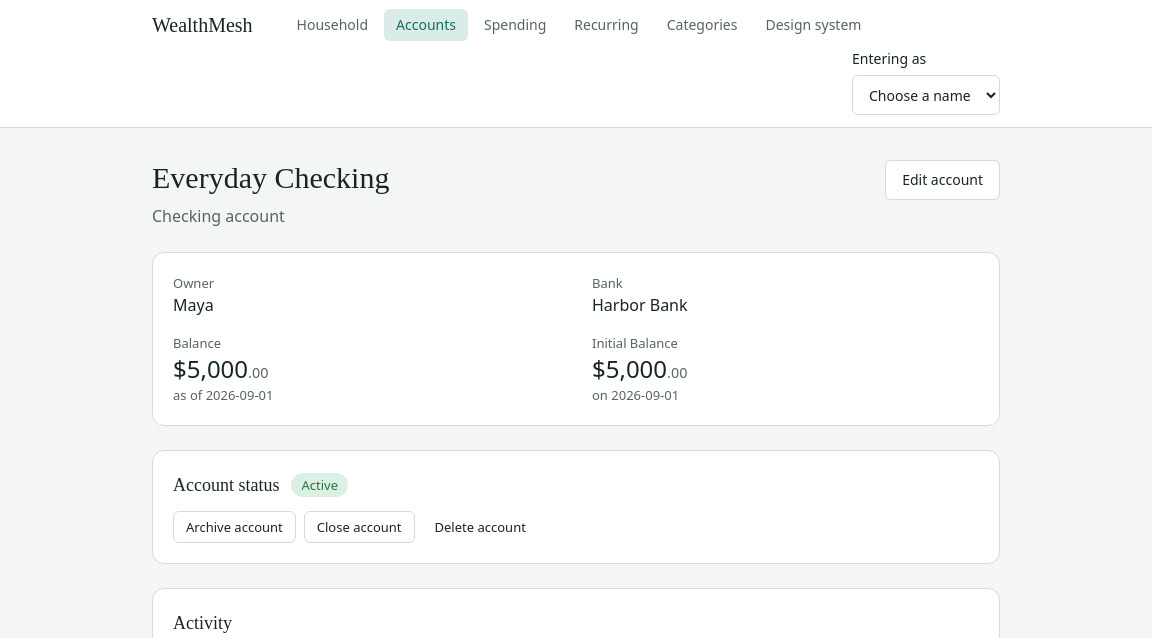
Test case: adding a transfer › V2_SAVINGS_002 confirming moves the money on both sides and adds no income or spending
The image size is (1152, 638).
Select "Maya" in the dropdown labelled "Entering as" at point(926, 95), box [852,75,1000,115]
(page scrolled)
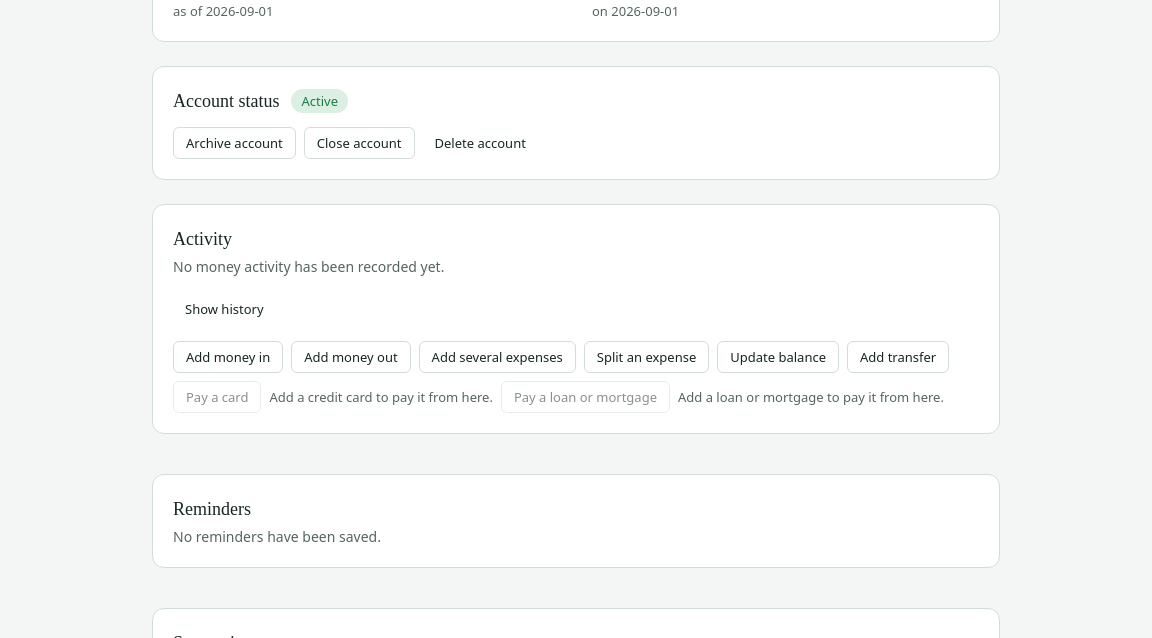
Click the button "Add transfer" at point(898, 357), box [847,341,949,373]
(page scrolled)
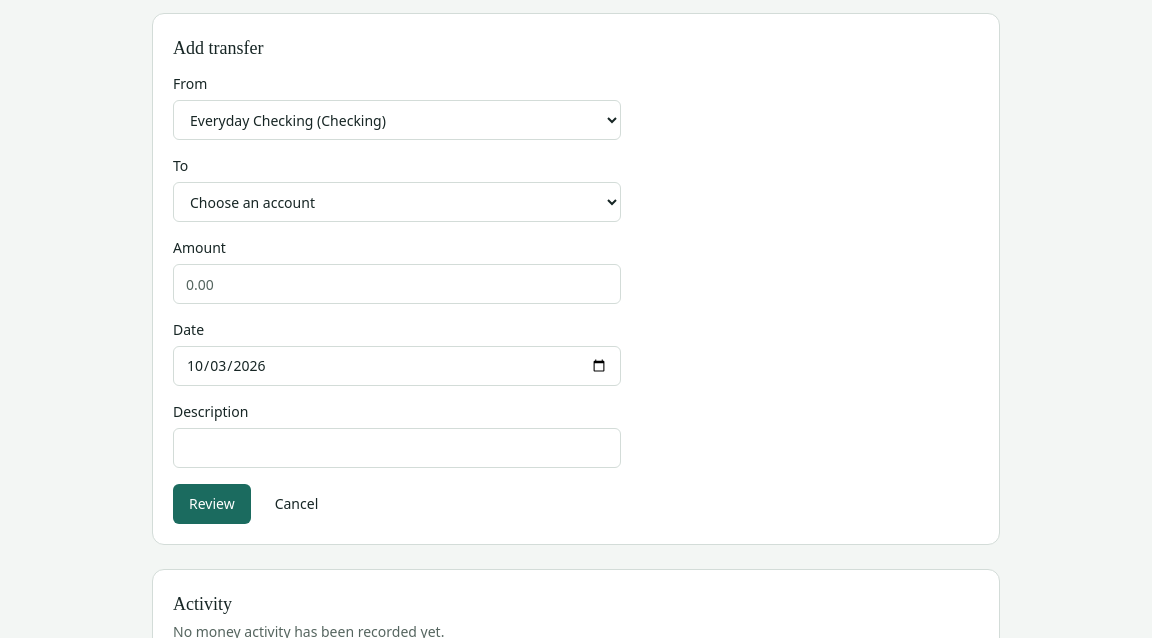
Result: the heading "Add transfer" is shown at [173,38,264,58]
Select "Emergency Savings (Savings)" in the dropdown labelled "To" at point(397, 202), box [173,182,621,222]
Type "2000.00" into the field labelled "Amount" at point(397, 284), box [173,264,621,304]
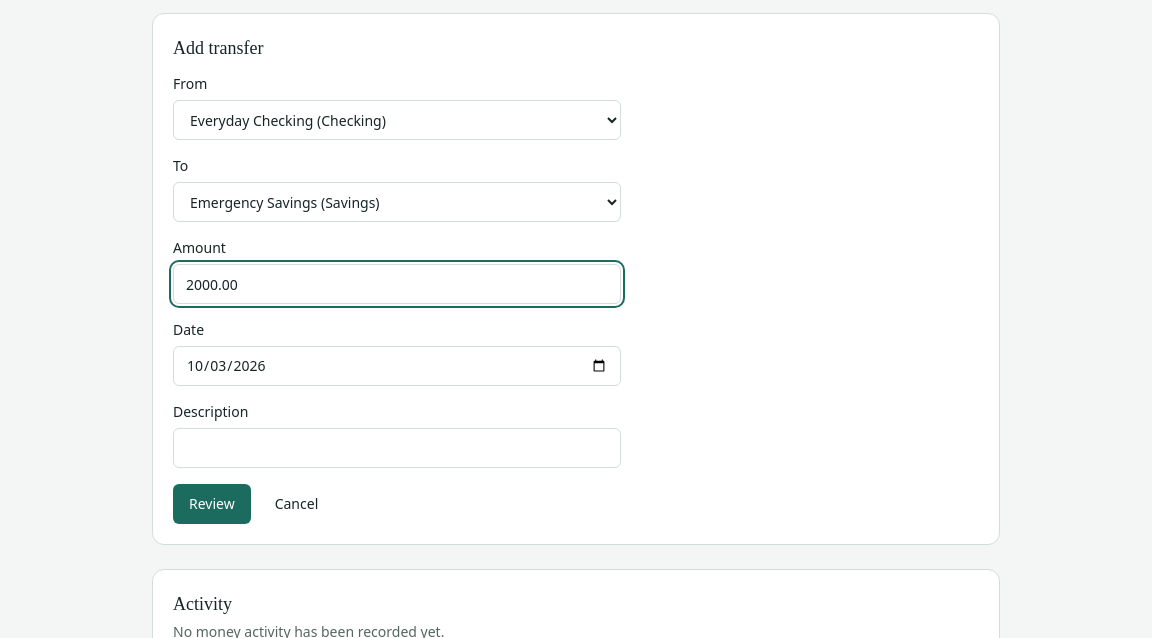
Type "2026-09-04" into the date field labelled "Date" at point(397, 366), box [173,346,621,386]
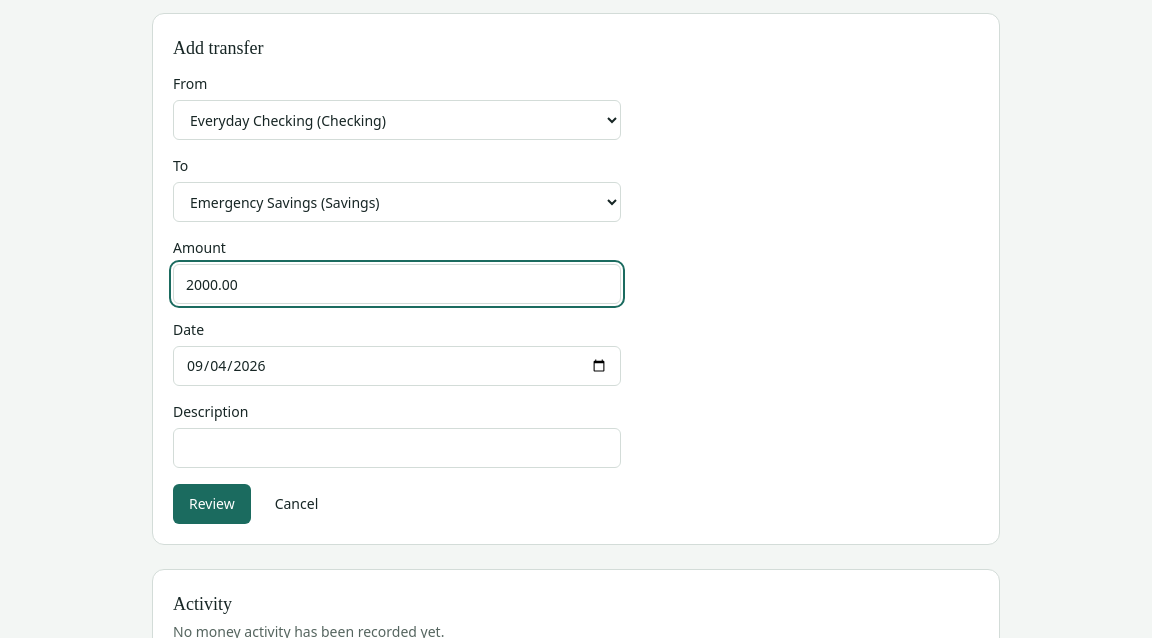
Click the button "Review" at point(212, 504), box [173,484,251,524]
(page scrolled)
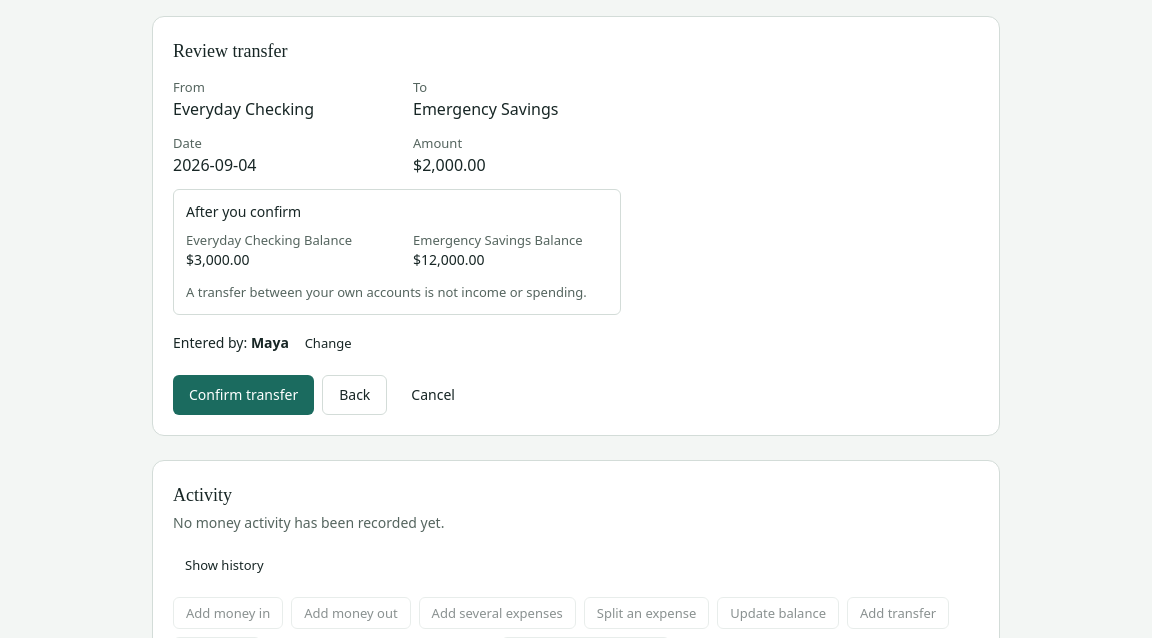
Result: the element named "Effect of this transfer" is shown at [173,189,621,315]
Click the button "Confirm transfer" at point(244, 395), box [173,375,314,415]
(page scrolled)
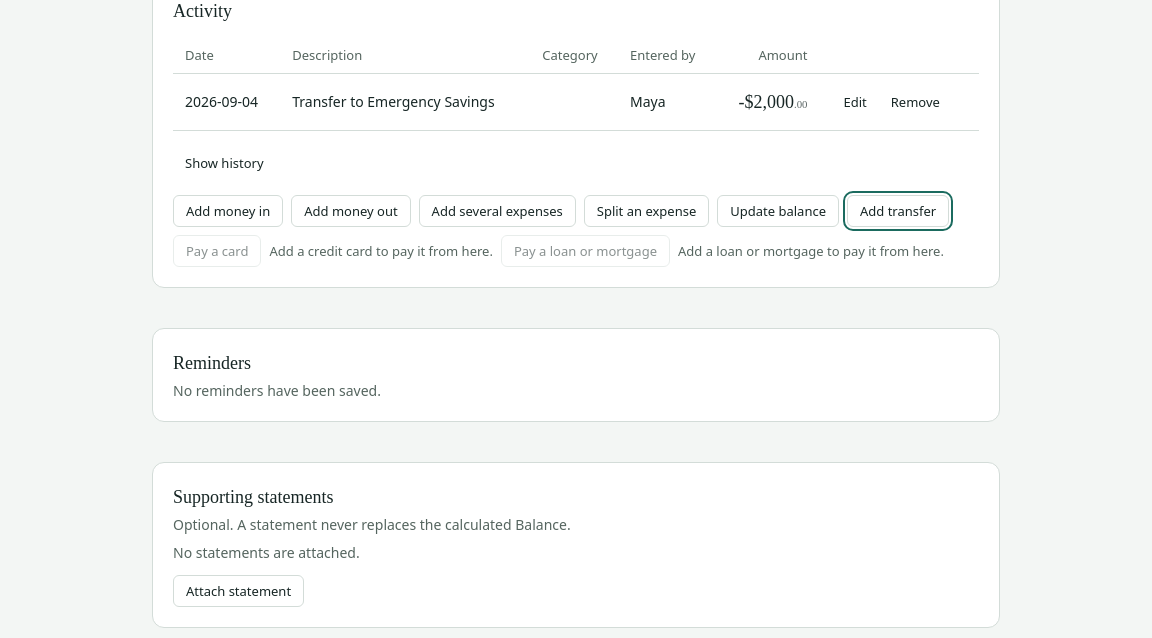
Result: the link "Emergency Savings" is shown at [367,92,495,111]
Result: the row "Transfer to Emergency Savings" shows "-$2,000.00" at [173,74,979,130]
